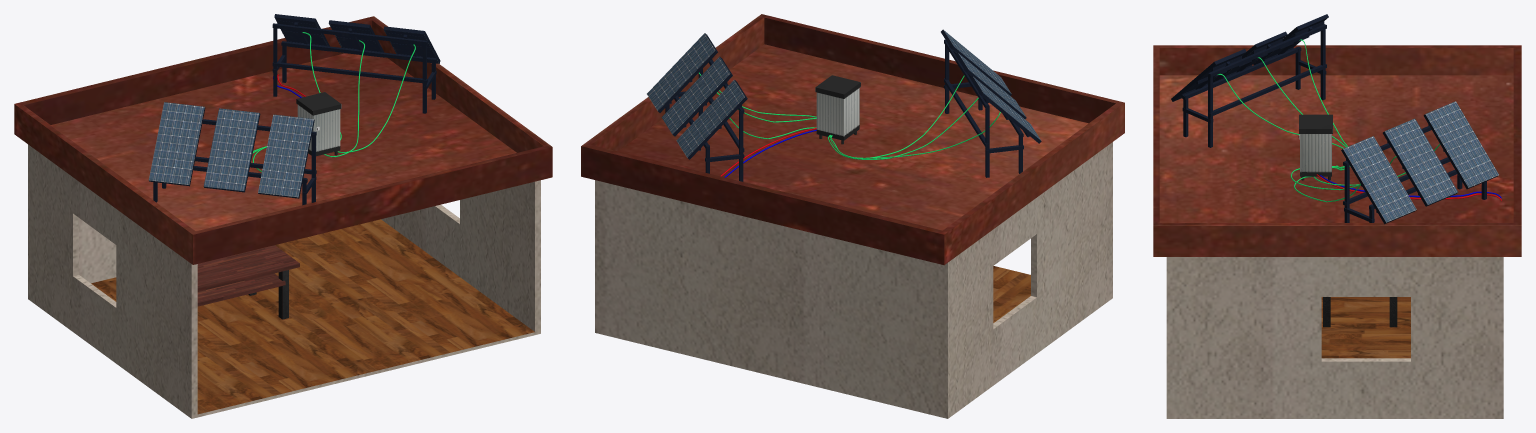
Rendered from house with solar panels.fbx.
The picture shows the model from 3 angles, left to right: view 1: azimuth 30°, elevation 25°; view 2: azimuth 150°, elevation 25°; view 3: azimuth 270°, elevation 25°; orthographic projection. The views are drawn at different scales.
Visible parts, largest first — view 1: house, house.001, table, solar pannel stand 2, solar pannel 1, solar pannel 3, solar pannel 2, inverter, solar pannel stand 1, solar pannel 5, solar pannel 6, solar pannel 4; view 2: house, inverter, solar pannel 5, solar pannel 4, solar pannel 6, solar pannel stand 1, house.001, solar pannel stand 2, solar pannel 3, solar pannel 2, solar pannel 1; view 3: house, house.001, solar pannel stand 1, solar pannel 6, solar pannel 5, solar pannel 4, inverter, solar pannel stand 2, solar pannel 1, solar pannel 3, solar pannel 2, table.
Part boxes in pixels (box(x1,y1,x2,y2)): house: box(14, 16, 552, 418); house.001: box(91, 219, 534, 414); table: box(197, 245, 299, 319); solar pannel stand 2: box(272, 23, 436, 113); solar pannel 1: box(258, 114, 314, 198); solar pannel 3: box(148, 102, 205, 186); solar pannel 2: box(203, 108, 260, 192); inverter: box(296, 92, 341, 156); solar pannel stand 1: box(153, 119, 316, 205); solar pannel 5: box(328, 20, 384, 57); solar pannel 6: box(274, 14, 330, 51); solar pannel 4: box(383, 26, 440, 63); house: box(581, 14, 1124, 418); inverter: box(815, 75, 860, 144); solar pannel 5: box(661, 56, 732, 136); solar pannel 4: box(647, 33, 717, 112); solar pannel 6: box(676, 79, 747, 159); solar pannel stand 1: box(944, 39, 1023, 177); house.001: box(993, 266, 1030, 322); solar pannel stand 2: box(665, 60, 744, 181); solar pannel 3: box(970, 76, 1041, 143); solar pannel 2: box(955, 52, 1026, 119); solar pannel 1: box(941, 29, 1011, 95); house: box(1153, 45, 1521, 418); house.001: box(1321, 297, 1410, 358); solar pannel stand 1: box(1182, 24, 1326, 147); solar pannel 6: box(1423, 101, 1498, 189); solar pannel 5: box(1383, 118, 1458, 206); solar pannel 4: box(1341, 136, 1416, 224); inverter: box(1298, 114, 1332, 180); solar pannel stand 2: box(1343, 126, 1486, 222); solar pannel 1: box(1171, 49, 1246, 101); solar pannel 3: box(1253, 14, 1328, 64); solar pannel 2: box(1213, 31, 1287, 82); table: box(1323, 297, 1397, 327).
Bounding box in the file's own units: 1961 × 1287 × 1685.
